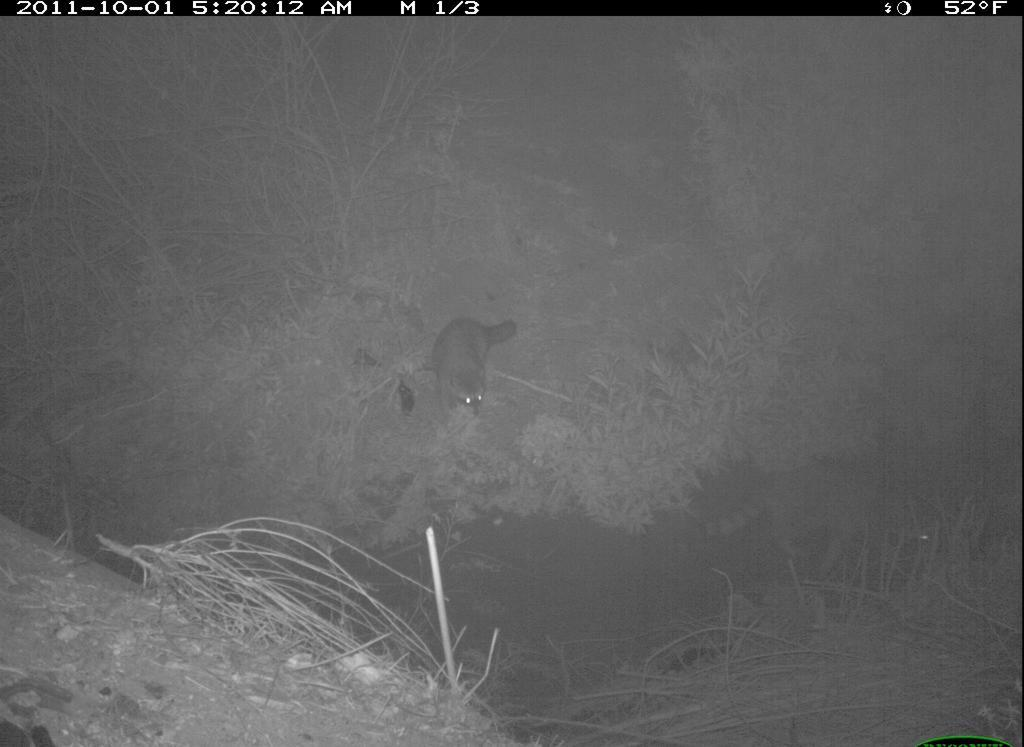raccoon: (405, 306, 538, 427)
